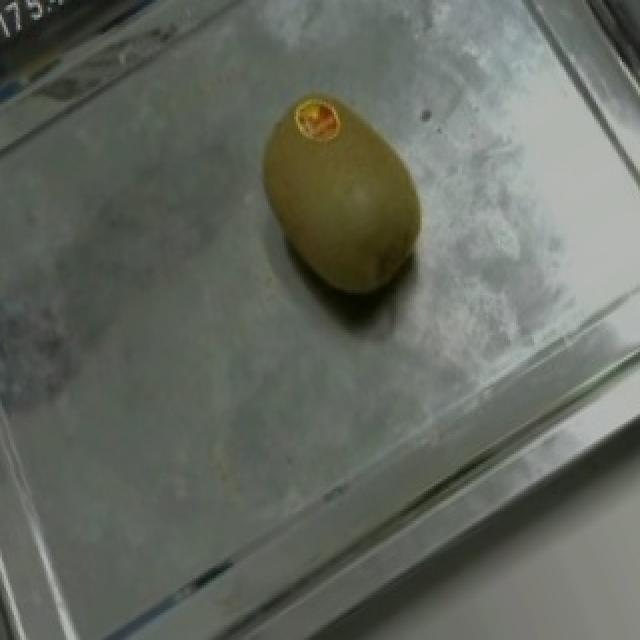Fruit: (220, 72, 462, 335)
